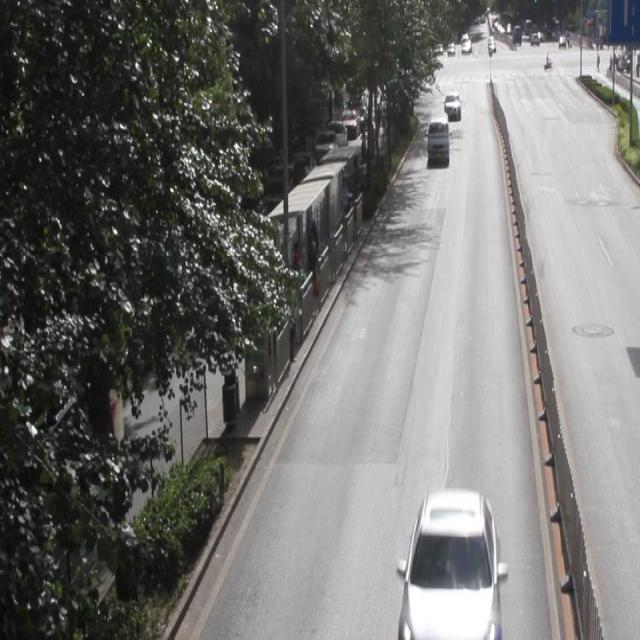car: (399, 487, 497, 640)
truck: (426, 112, 448, 164)
